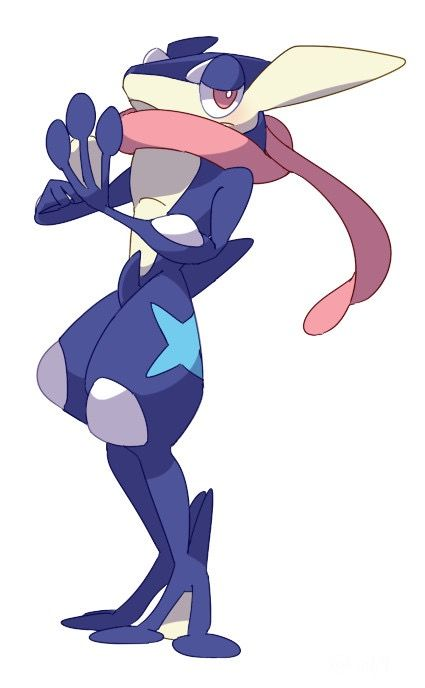greninja: (22, 33, 405, 660)
